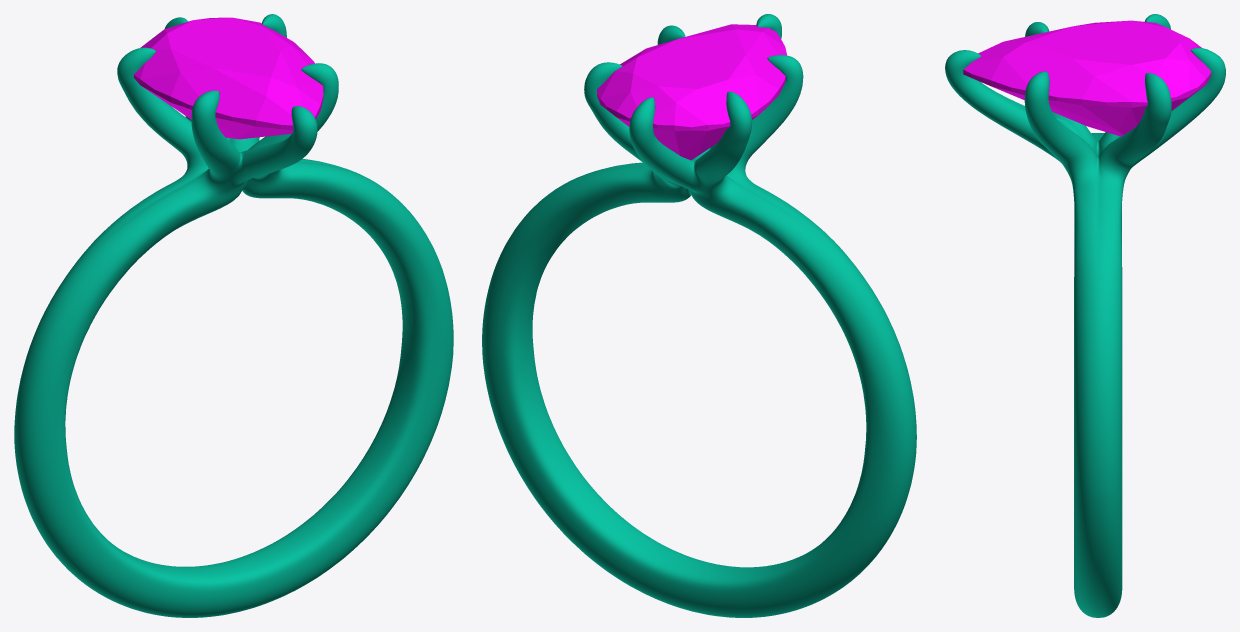
Rendered from BE1443_PE_200ct_RENDER.glb.
3 views of the same model, side by side, from view 1: azimuth 30°, elevation 25°; view 2: azimuth 150°, elevation 25°; view 3: azimuth 270°, elevation 25° (orthographic).
Parts seen in each view (by area): view 1: Metal 01, CS_Diamond_Pear; view 2: Metal 01, CS_Diamond_Pear; view 3: Metal 01, CS_Diamond_Pear.
Part boxes in pixels (box(x1,y1,x2,y2)): Metal 01: box(14, 14, 453, 617); CS_Diamond_Pear: box(133, 17, 323, 139); Metal 01: box(482, 14, 916, 617); CS_Diamond_Pear: box(597, 24, 786, 160); Metal 01: box(945, 14, 1225, 617); CS_Diamond_Pear: box(963, 20, 1210, 136).
Size of the model in its own units: 20.49 by 25.33 by 11.67.
